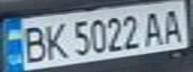0: (87, 16, 109, 55)
2: (103, 12, 127, 53), (121, 11, 145, 51)
5: (69, 16, 90, 57)
A: (157, 6, 190, 45), (139, 8, 169, 47)
B: (18, 21, 51, 64)
K: (39, 20, 69, 61)
